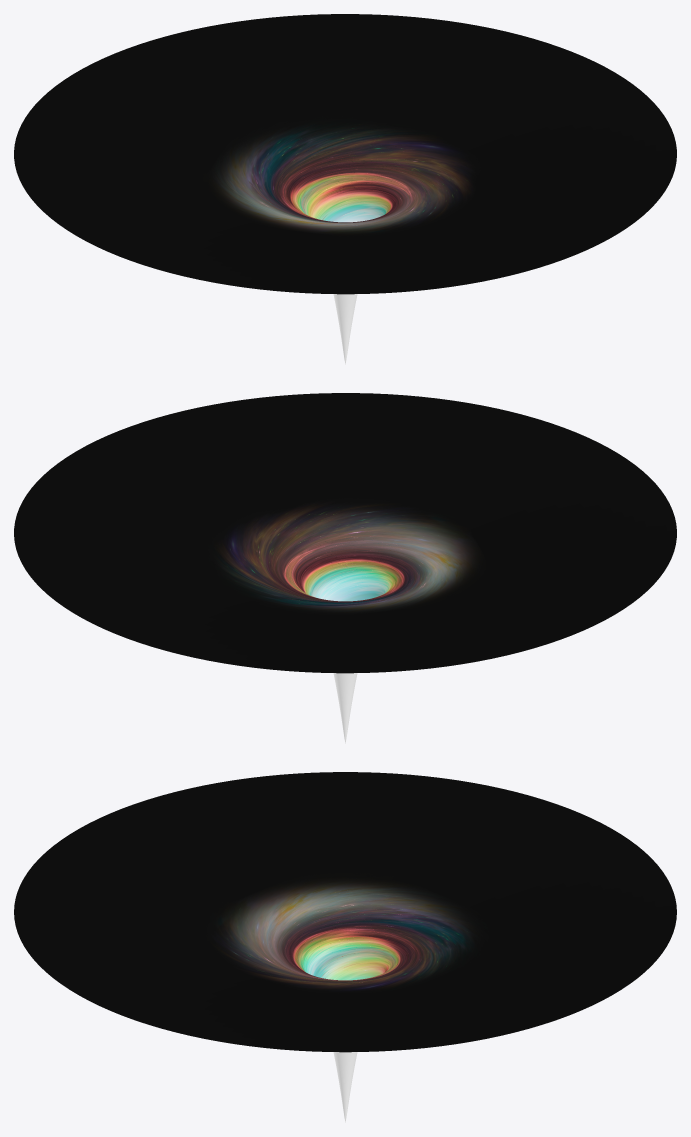
File: portal.gltf
3 views of the same model, one above another, from view 1: azimuth 30°, elevation 25°; view 2: azimuth 150°, elevation 25°; view 3: azimuth 270°, elevation 25° (orthographic).
Parts seen in each view (by area): view 1: Circle; view 2: Circle; view 3: Circle.
Boxes of the visible parts, left/top/right/bottom form: Circle: left=14, top=14, right=676, bottom=364; Circle: left=14, top=393, right=676, bottom=743; Circle: left=14, top=772, right=676, bottom=1122.
Bounding box in the file's own units: 4810 × 1688 × 4810.
1 material, 1 textured.
